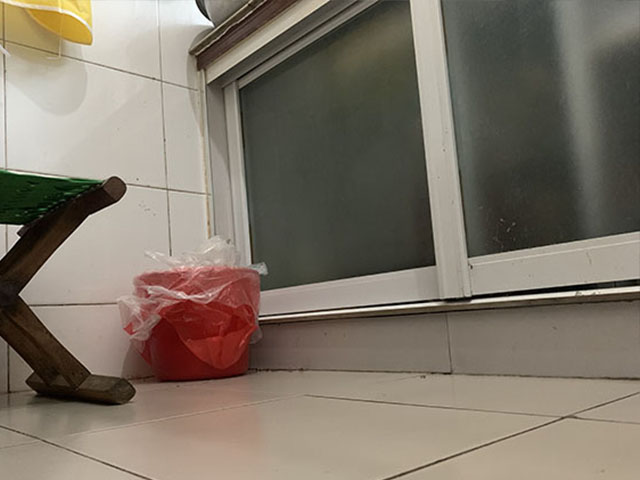cabinet: (187, 1, 639, 380)
stool: (1, 164, 137, 407)
trashcan: (130, 264, 264, 381)
